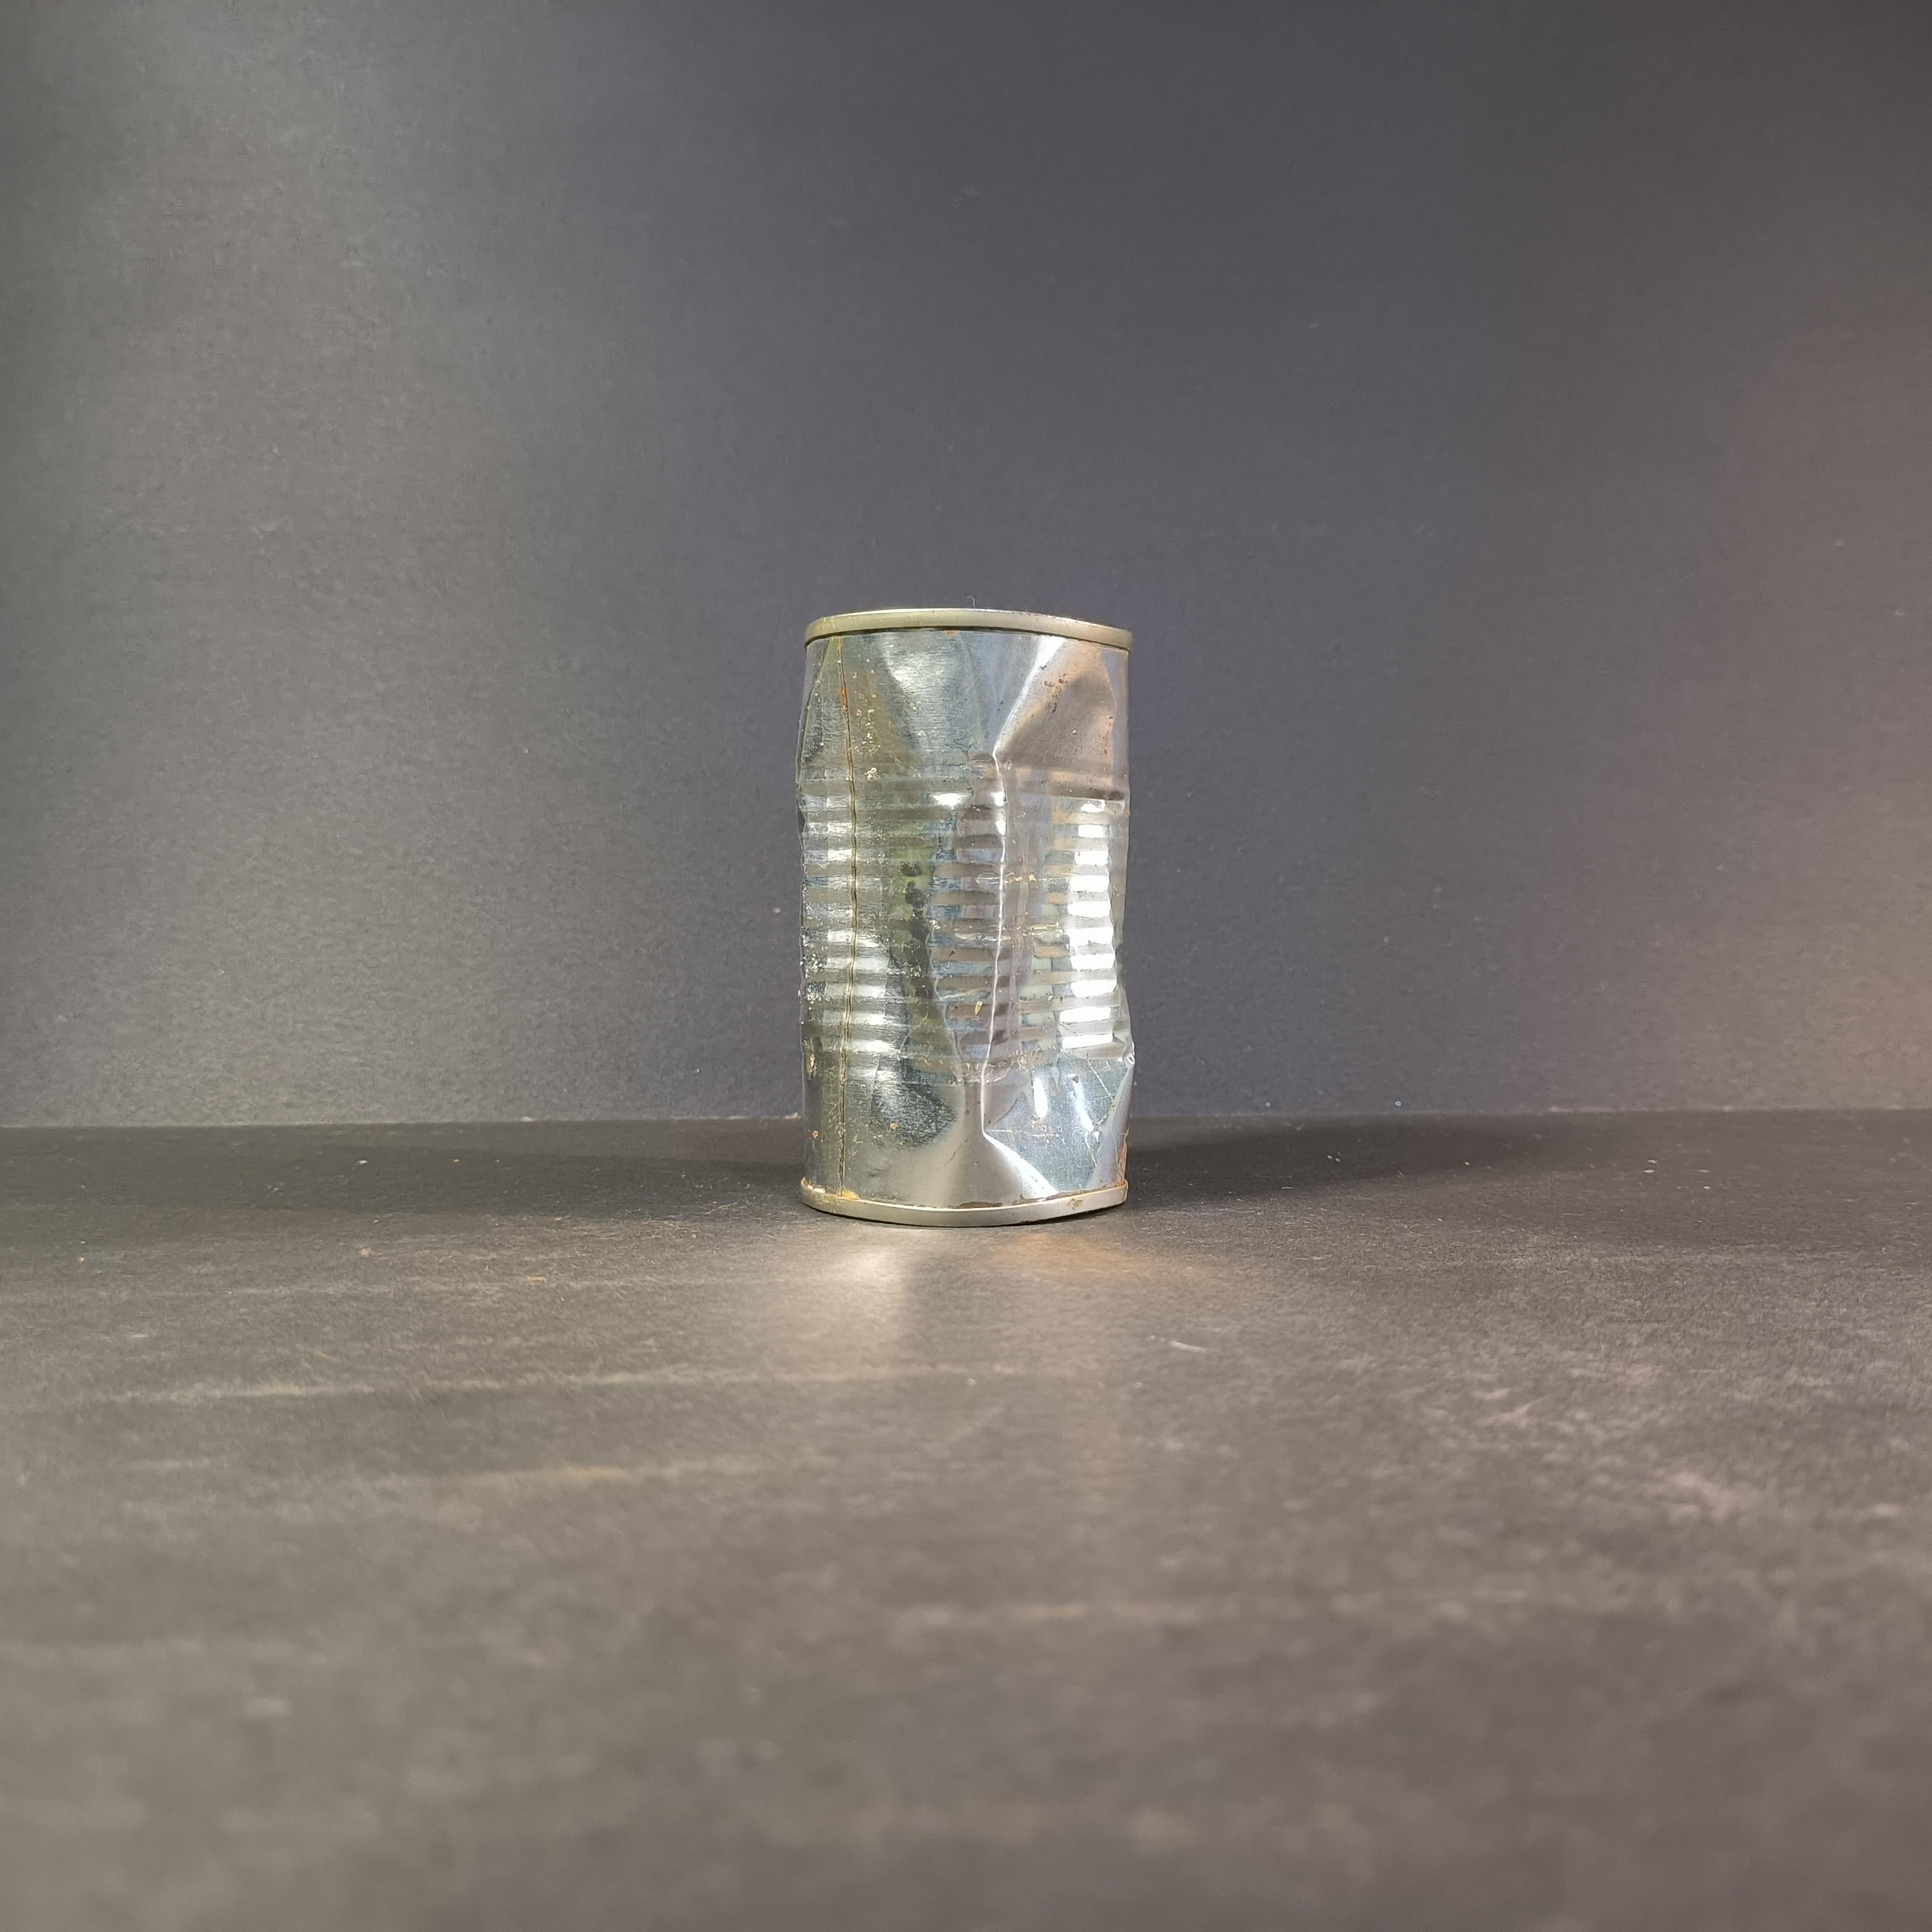Dented: (778, 584, 1152, 1224)
